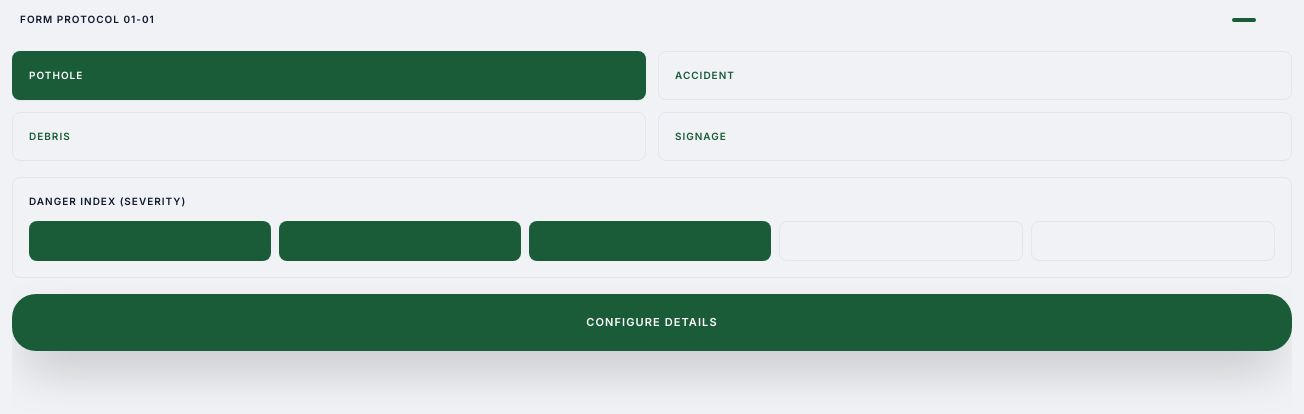
Test: ReportForm › allows going back to step 1 from step 2
The image size is (1304, 414).
Click the button "Configure Details" at (652, 322), box 12,294 -> 1292,350
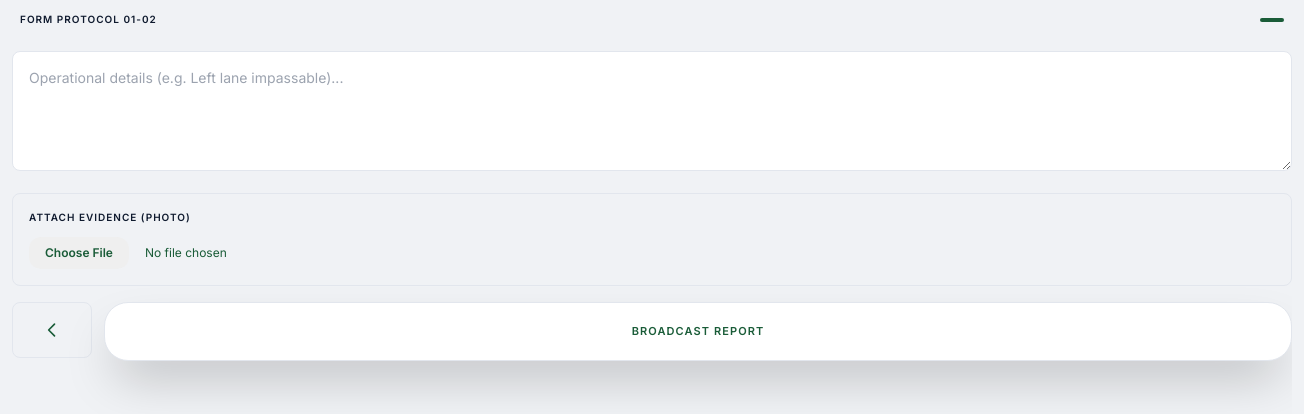
Click the button named "go back to step 1" at (52, 330), box 12,302 -> 92,358
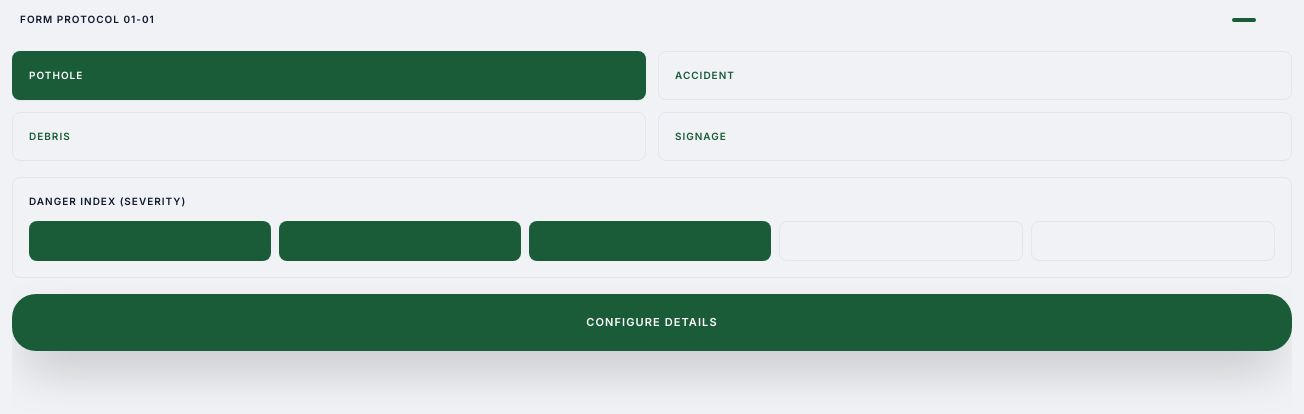
Now the button with aria-label "issue type: pothole" is shown, box 12,51 -> 646,100
